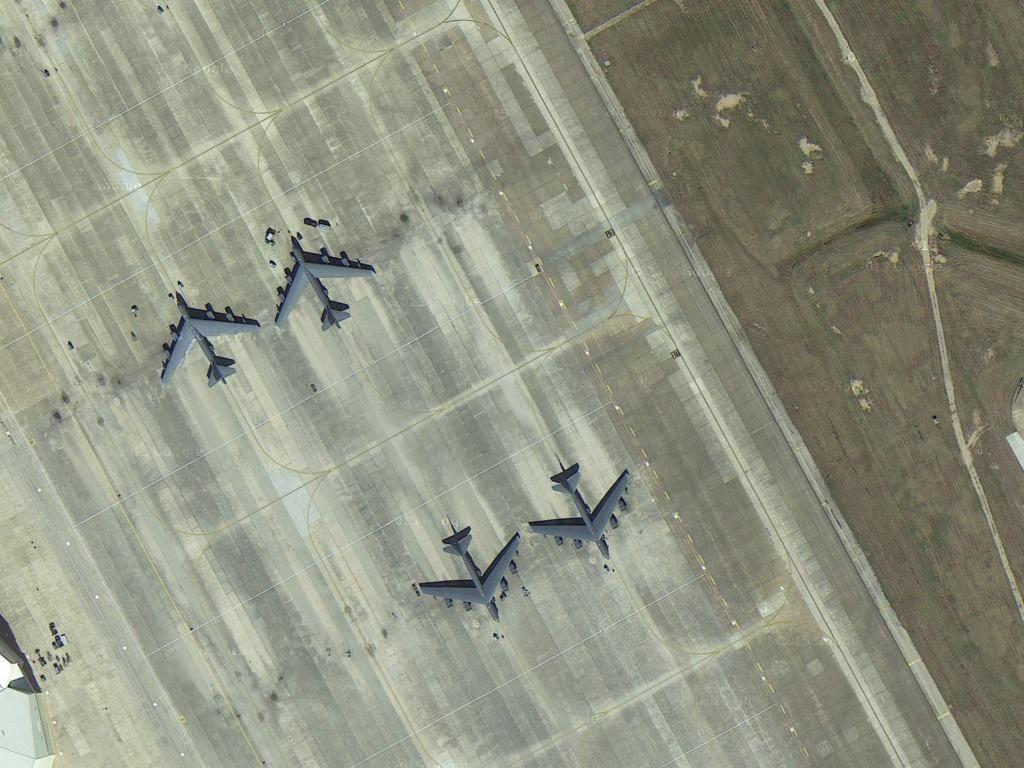B-52: (414, 515, 526, 626), (525, 455, 635, 563), (266, 232, 375, 336), (155, 294, 264, 387)
